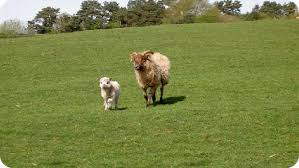sheep: (125, 49, 170, 108), (98, 77, 123, 115)
